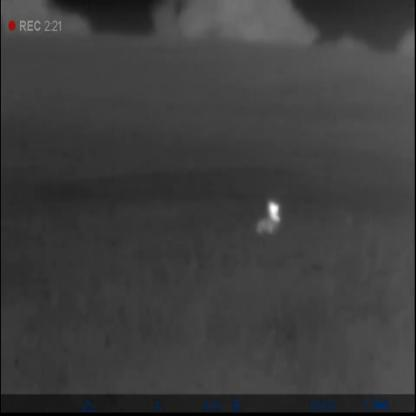rehkitze: (258, 198, 281, 241)
